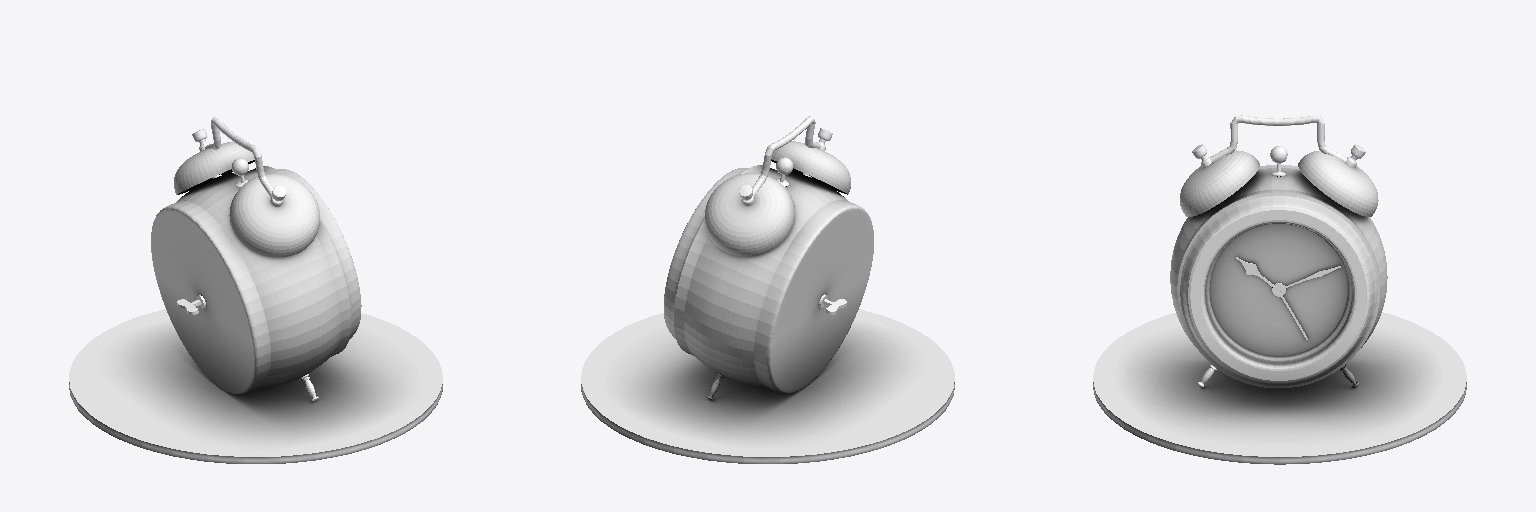
The picture shows the model from 3 angles: view 1: azimuth 30°, elevation 25°; view 2: azimuth 150°, elevation 25°; view 3: azimuth 270°, elevation 25°; orthographic projection.
Parts seen in each view (by area): view 1: Cylinder, Rectangle001, Sphere001, Sphere002, Loft001; view 2: Cylinder, Rectangle001, Sphere002, Sphere001, Loft001; view 3: Cylinder, Rectangle001, Object, Sphere001, Sphere002, Loft001, Arc003.
Boxes of the visible parts, x1=… form: Cylinder: x1=69, y1=309, x2=442, y2=463; Rectangle001: x1=151, y1=166, x2=361, y2=394; Sphere001: x1=229, y1=174, x2=319, y2=256; Sphere002: x1=174, y1=142, x2=254, y2=194; Loft001: x1=205, y1=117, x2=273, y2=197; Cylinder: x1=581, y1=309, x2=954, y2=463; Rectangle001: x1=664, y1=165, x2=873, y2=393; Sphere002: x1=705, y1=173, x2=794, y2=256; Sphere001: x1=771, y1=141, x2=850, y2=194; Loft001: x1=752, y1=116, x2=820, y2=196; Cylinder: x1=1093, y1=312, x2=1466, y2=464; Rectangle001: x1=1170, y1=165, x2=1387, y2=387; Object: x1=1210, y1=224, x2=1347, y2=355; Sphere001: x1=1180, y1=150, x2=1259, y2=216; Sphere002: x1=1298, y1=151, x2=1378, y2=216; Loft001: x1=1210, y1=115, x2=1346, y2=161; Arc003: x1=1236, y1=257, x2=1340, y2=339.
Size of the model in its own units: 207 by 158 by 207.
Materials: 8 (6 with a texture image).